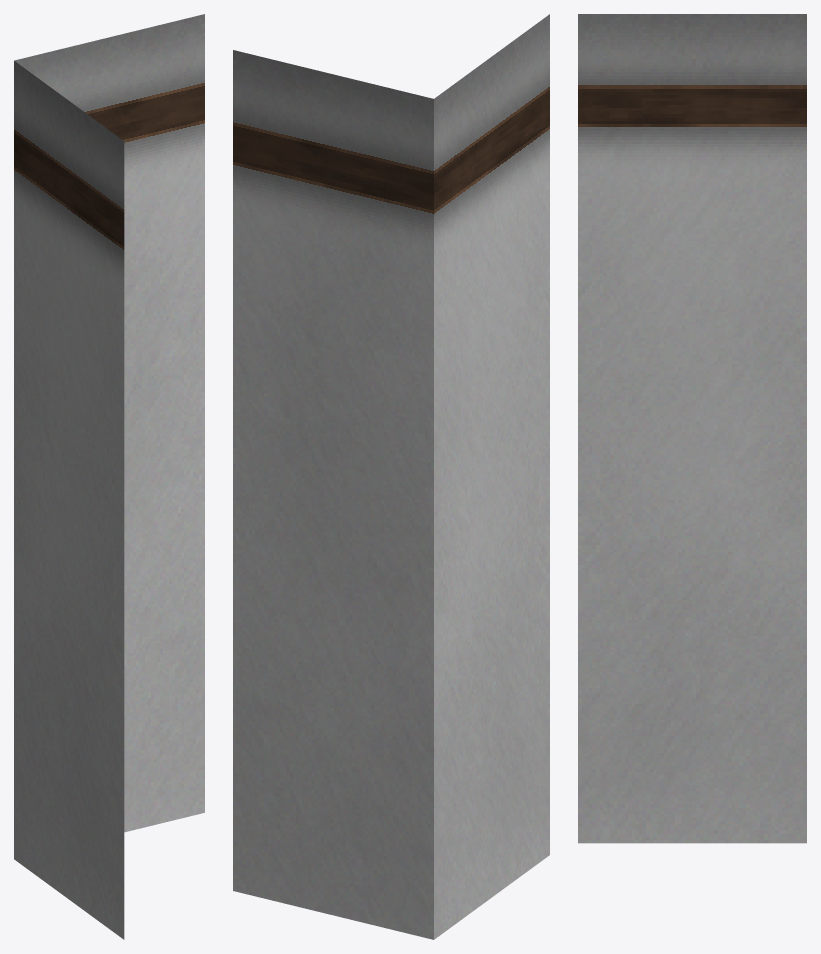
Rendered from house_inner_corner_b.glb.
The picture shows the model from 3 angles, left to right: view 1: azimuth 30°, elevation 25°; view 2: azimuth 150°, elevation 25°; view 3: azimuth 270°, elevation 25°; orthographic projection. The views are drawn at different scales.
Visible parts, largest first — view 1: house_inner_corner_b; view 2: house_inner_corner_b; view 3: house_inner_corner_b.
Part boxes in pixels (box(x1,y1,x2,y2)): house_inner_corner_b: box(14, 14, 204, 939); house_inner_corner_b: box(233, 14, 549, 939); house_inner_corner_b: box(578, 14, 806, 843).
Size of the model in its own units: 1 by 4 by 1.
1 material, 1 textured.
